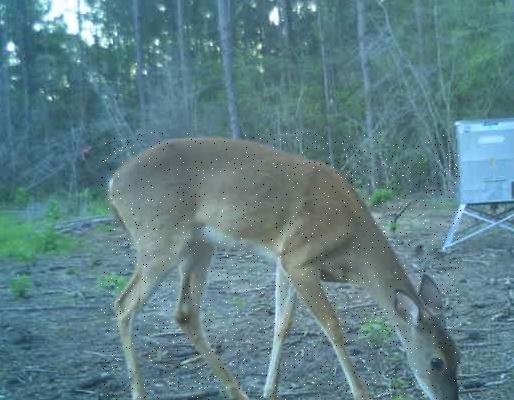Deer: (101, 132, 462, 400)
